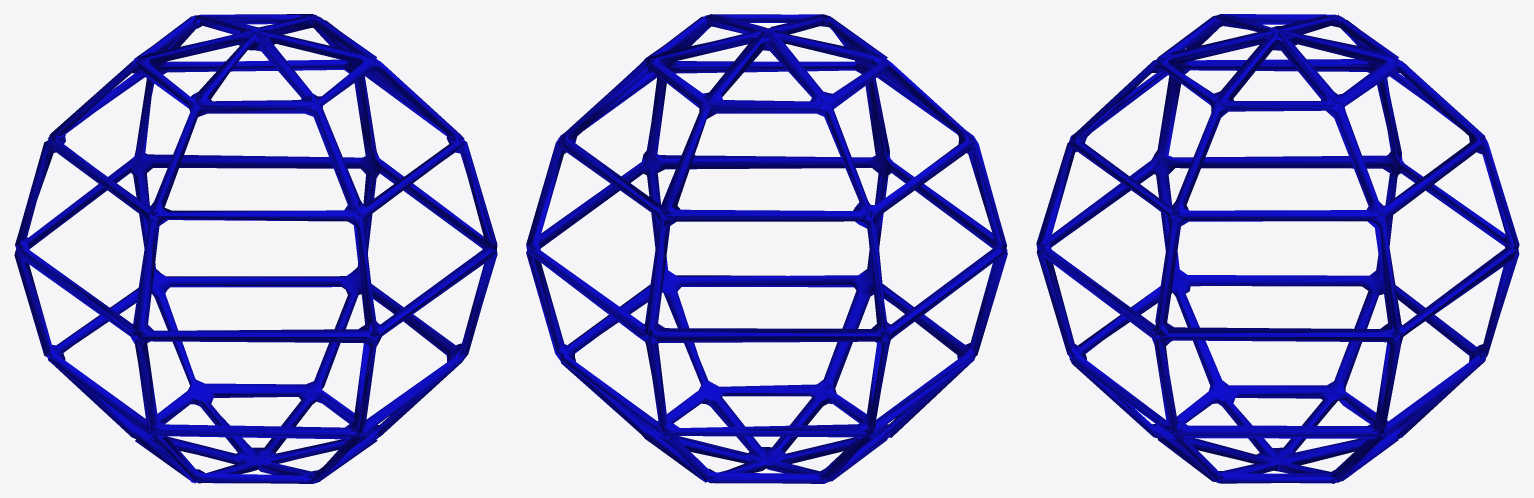
Rendered from globey.glb.
3 views of the same model, side by side, from view 1: azimuth 30°, elevation 25°; view 2: azimuth 150°, elevation 25°; view 3: azimuth 270°, elevation 25° (orthographic).
Visible parts, largest first — view 1: Sphere; view 2: Sphere; view 3: Sphere.
Part boxes in pixels (left/top/right/bottom): Sphere: left=14, top=14, right=497, bottom=483; Sphere: left=526, top=14, right=1007, bottom=483; Sphere: left=1036, top=14, right=1519, bottom=483.
Bounding box in the file's own units: 1.77 × 2.03 × 2.03.
1 material, 1 textured.
